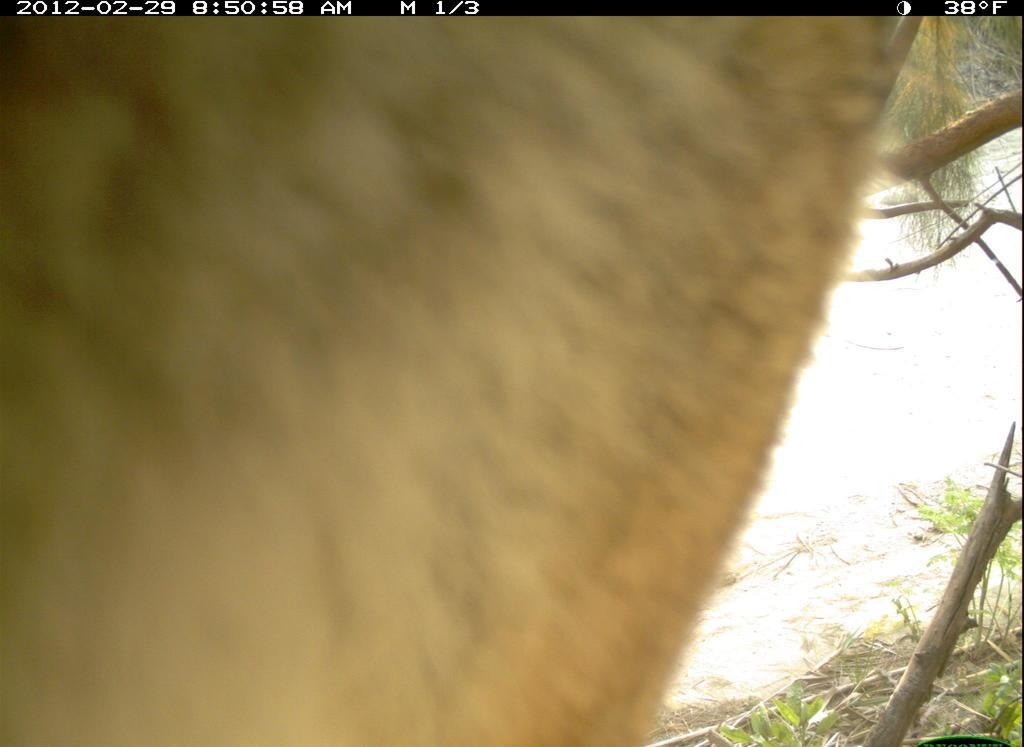coyote: (2, 17, 925, 747)
